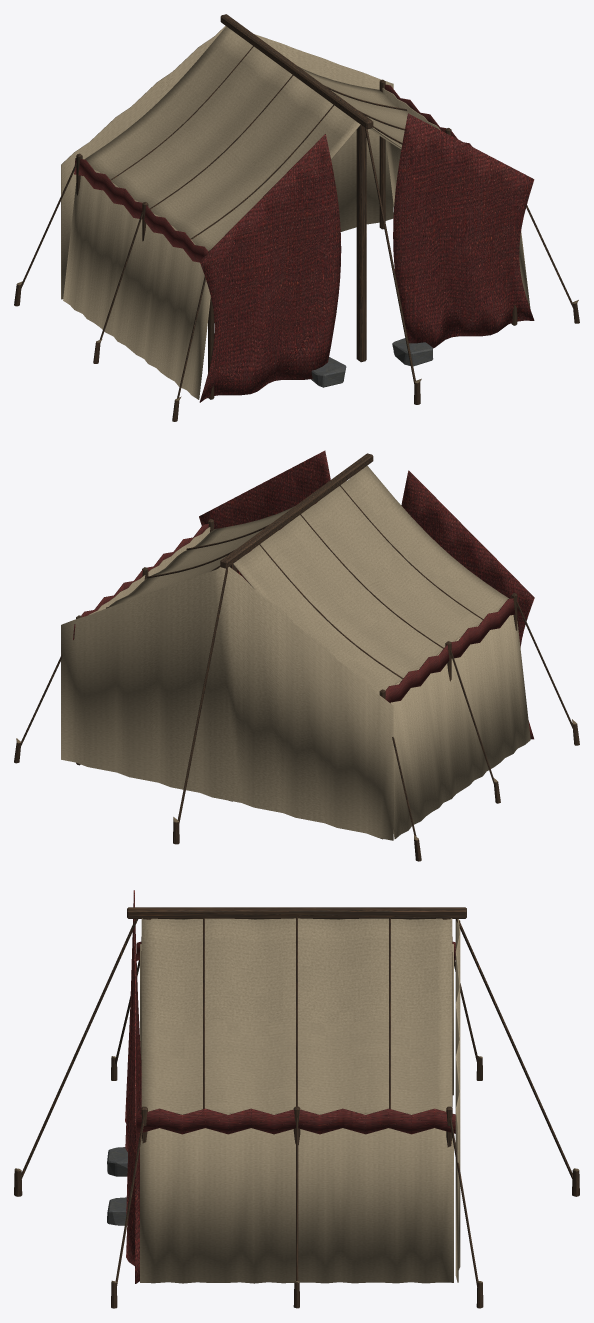
File: barrosan_campaign_tent_lod1.glb
3 views of the same model, one above another, from view 1: azimuth 30°, elevation 25°; view 2: azimuth 150°, elevation 25°; view 3: azimuth 270°, elevation 25° (orthographic). The views are drawn at different scales.
Parts seen in each view (by area): view 1: barrosan_campaign_tent; view 2: barrosan_campaign_tent; view 3: barrosan_campaign_tent.
Boxes of the visible parts, x1,y1,x2,y2 form: barrosan_campaign_tent: (14,14,579,421); barrosan_campaign_tent: (14,450,579,861); barrosan_campaign_tent: (14,890,579,1308).
Bounding box in the file's own units: 6.18 × 3.59 × 6.42.
Materials: 5 (4 with a texture image).
